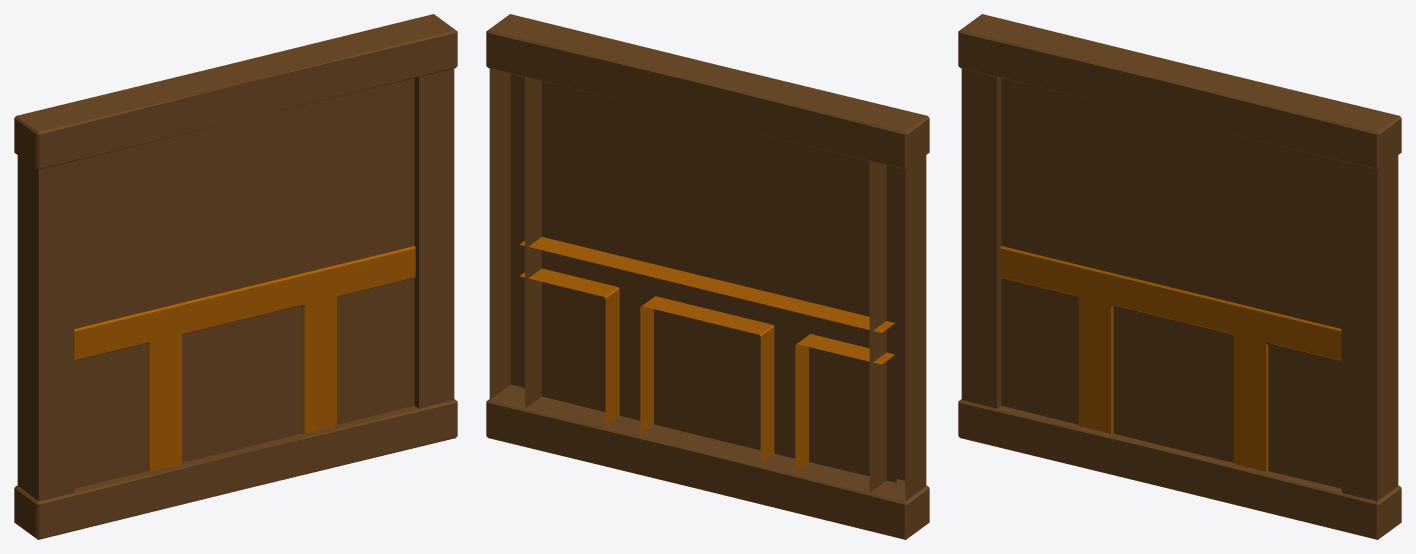
Rendered from ParedDecoracion2.fbx.
The picture shows the model from 3 angles, left to right: view 1: azimuth 30°, elevation 25°; view 2: azimuth 150°, elevation 25°; view 3: azimuth 330°, elevation 25°; orthographic projection.
Visible parts, largest first — view 1: polySurface1889, polySurface1890; view 2: polySurface1889, polySurface1890; view 3: polySurface1889, polySurface1890.
Boxes of the visible parts, x1,y1,x2,y2 form: polySurface1889: (14,14,457,539); polySurface1890: (74,246,415,471); polySurface1889: (486,14,929,539); polySurface1890: (520,237,894,471); polySurface1889: (958,14,1401,539); polySurface1890: (1000,246,1341,471).
Size of what is drawn, in the model's own units: 1.15 by 1.07 by 0.1151.
